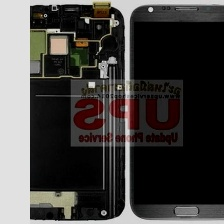phone: (0, 2, 127, 224), (128, 0, 224, 224)
